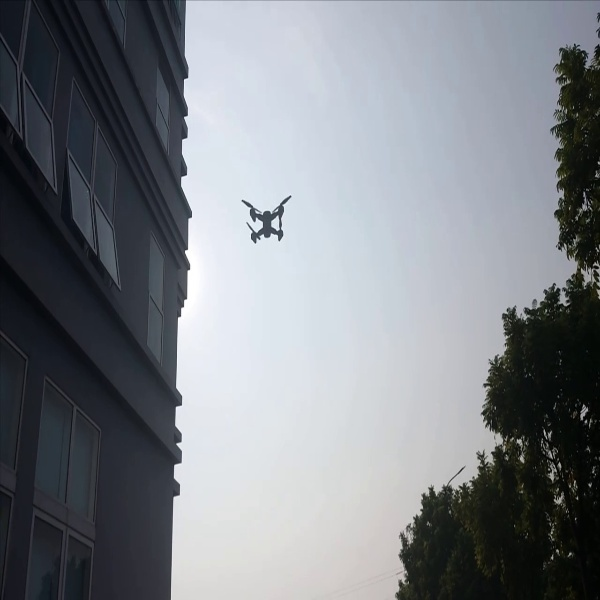drone: (230, 193, 298, 254)
